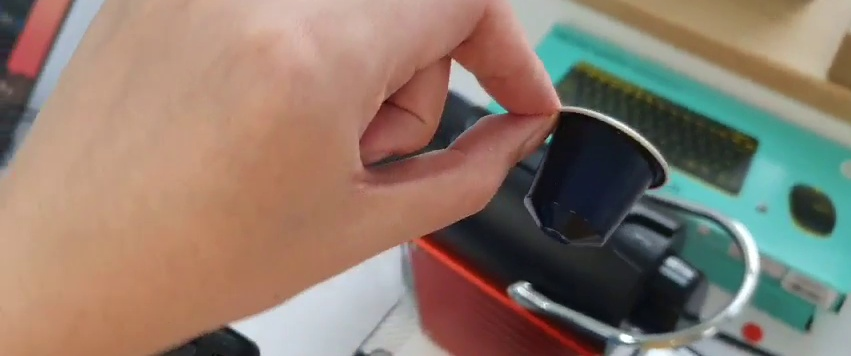capsule_1: (524, 104, 670, 247)
